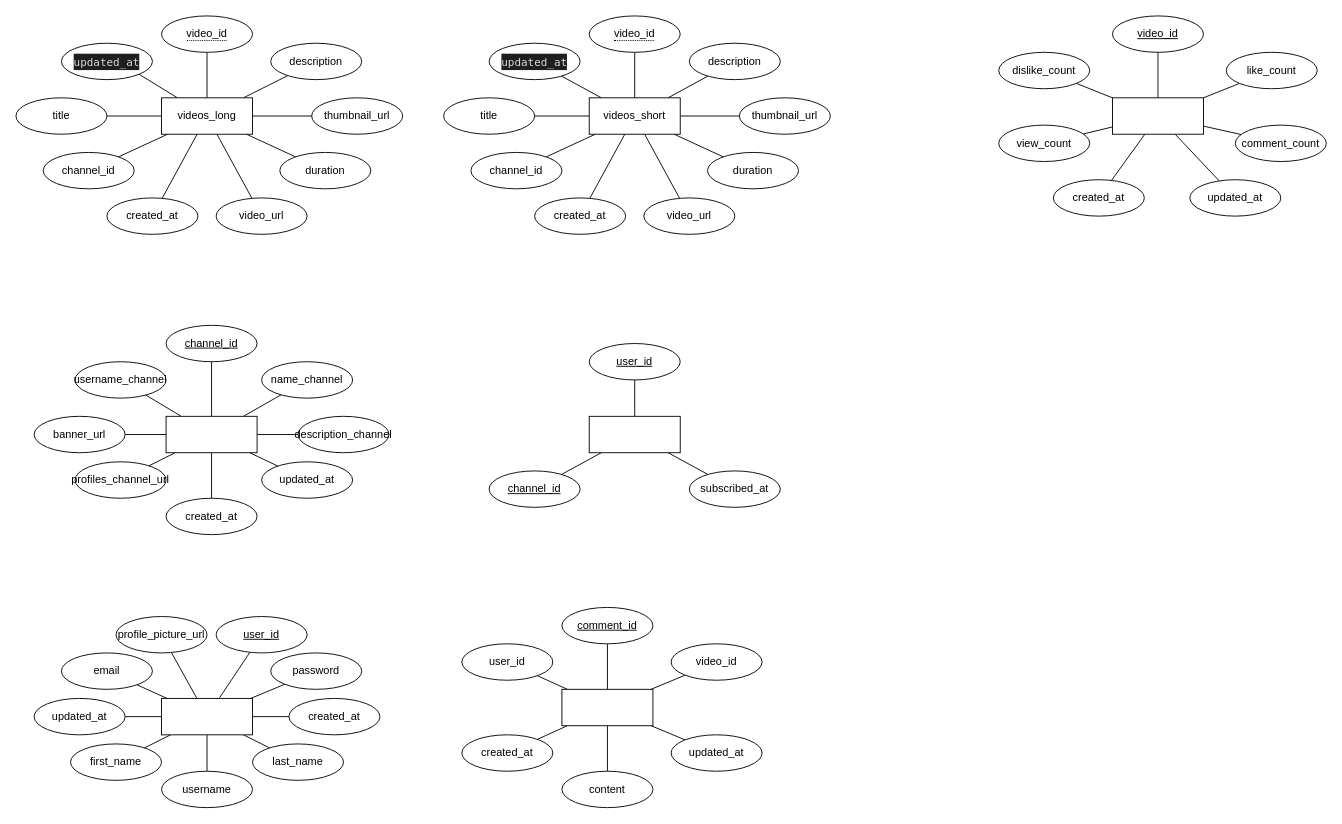
This 1342x824 diagram has some shape labels left out. The centre of each missing label's shape, as x and y in pixels:
"channel_subscribe" goes at pixel 634 434.
"channels" goes at pixel 211 434.
"comments" goes at pixel 607 707.
"popular" goes at pixel 1157 115.
"users" goes at pixel 207 716.
